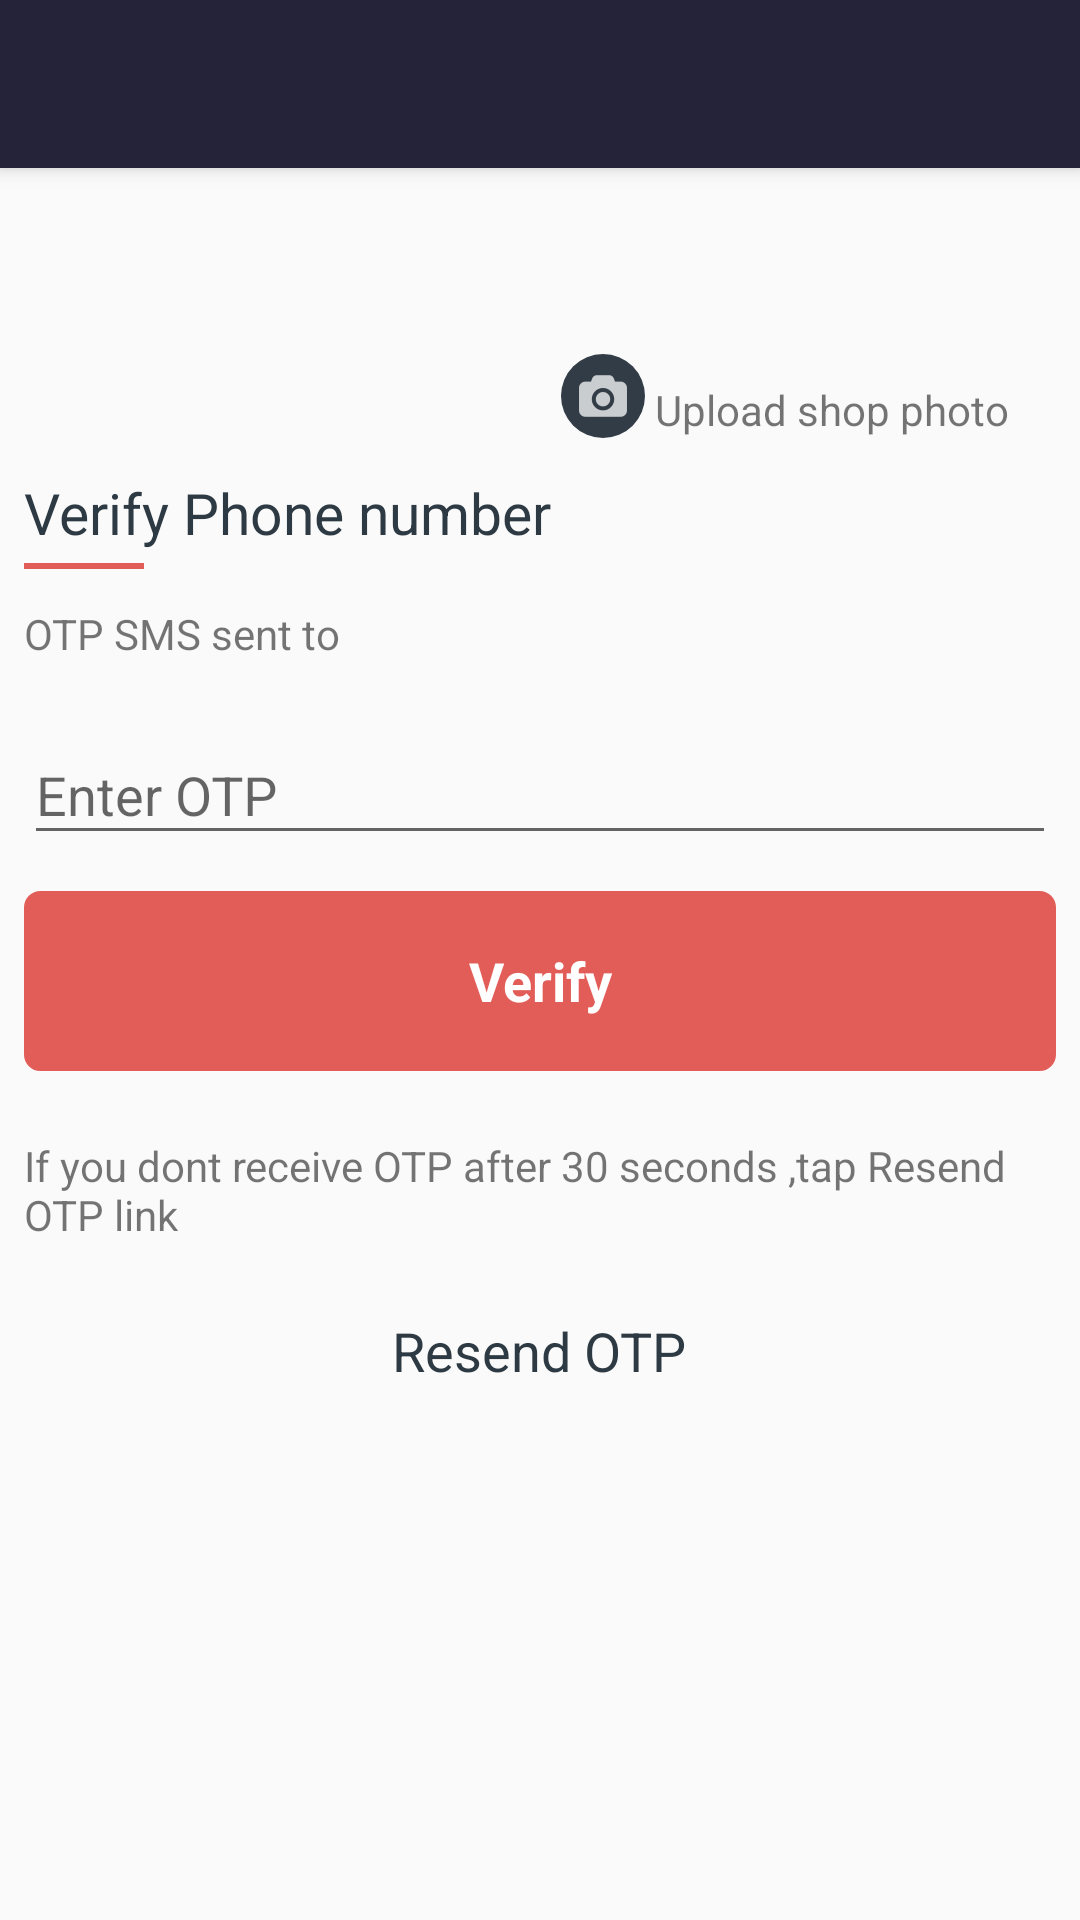

Point at icon controls on the screen. Image size 1080x1920, points as (x,y).
photo camera: (603,396)
